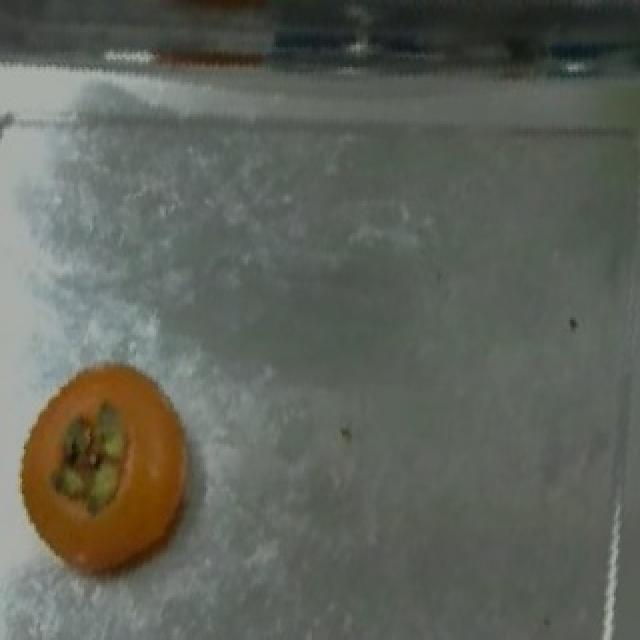Fruit: (2, 342, 216, 603)
